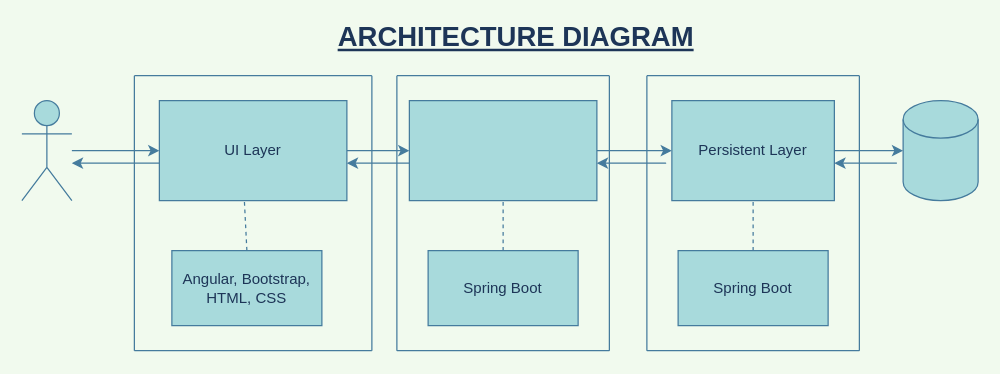
This 1000x374 diagram has some shape labels left out. The shapes that lost their labels are listed below. From the top down, each one's centre as x and y in pixels, then its label:
At point (46, 150): "User".
At point (502, 150): "Service Layer".
At point (940, 150): "DB (My Sql)".
